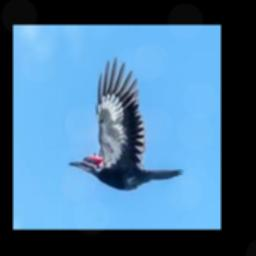Woodpecker: (68, 57, 184, 190)
